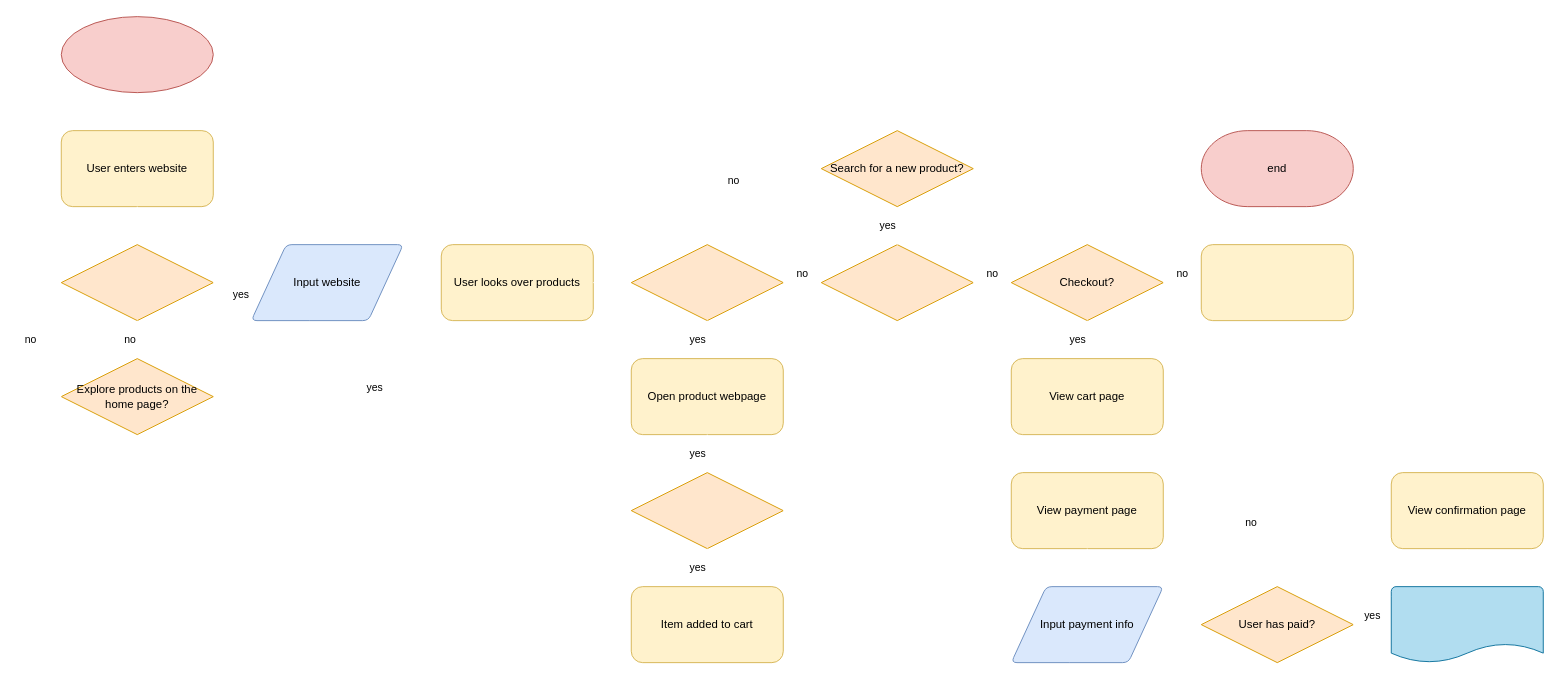
Image size: 1560x679. Some labels were removed from this diagram. Each missing label, with the centre of its shape:
"Add to cart?" belongs at pixel 706 510.
"Continue shopping?" belongs at pixel 896 282.
"Order confirmation email" belongs at pixel 1466 624.
"Search for a product?" belongs at pixel 136 282.
"start" belongs at pixel 136 54.
"User leaves website" belongs at pixel 1276 282.
"View a specific product?" belongs at pixel 706 282.
